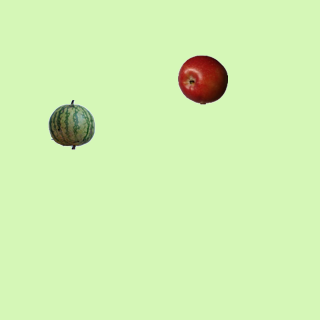Apple Braeburn: (177, 54, 227, 104)
Watermelon: (46, 99, 96, 149)
